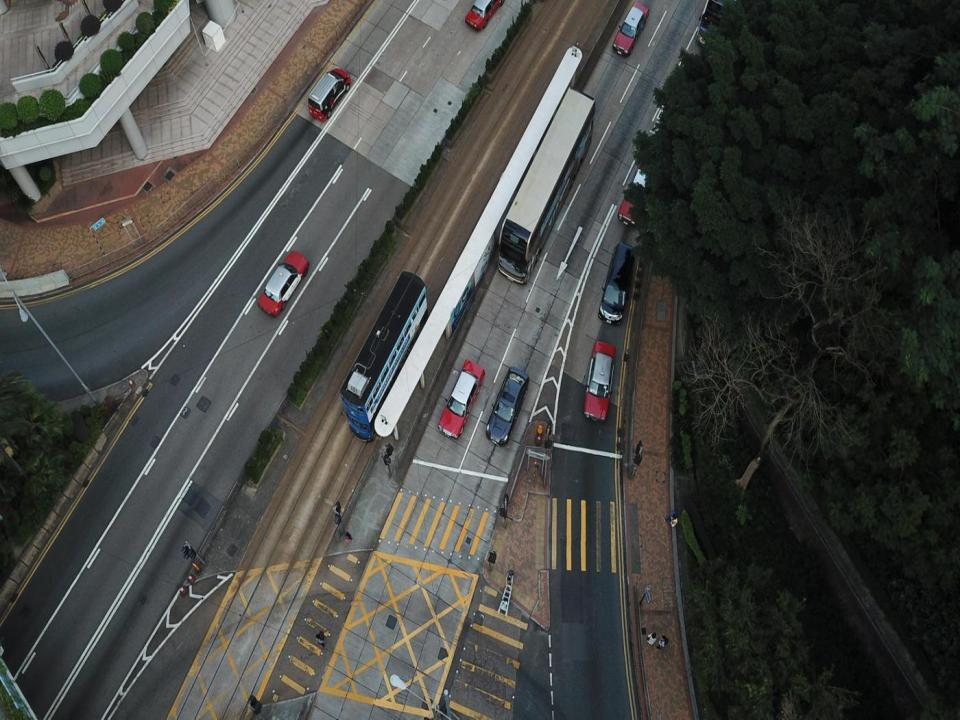bus: (497, 87, 593, 285), (340, 270, 428, 442)
car: (483, 365, 528, 444), (440, 361, 484, 441), (258, 251, 309, 315), (619, 146, 654, 228), (599, 244, 632, 322), (584, 342, 615, 420), (612, 2, 648, 57), (696, 0, 726, 47), (465, 0, 505, 29)
van: (308, 68, 349, 122)
